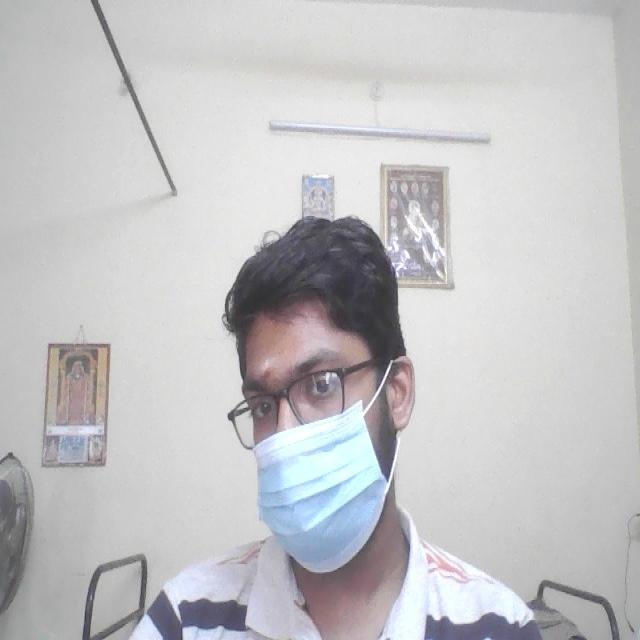Focused: (222, 295, 408, 547)
